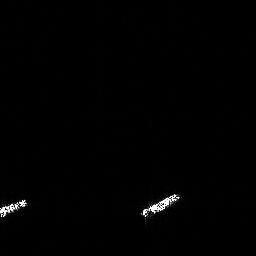ship: (137, 191, 181, 218), (1, 197, 28, 219)
